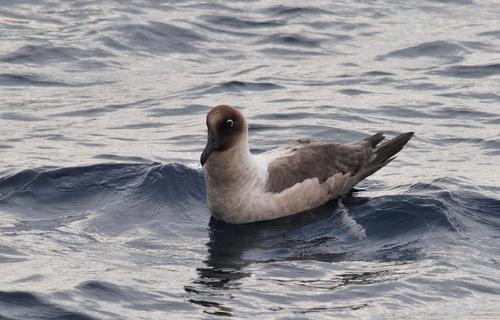003.Sooty_Albatross: (200, 106, 418, 228)
